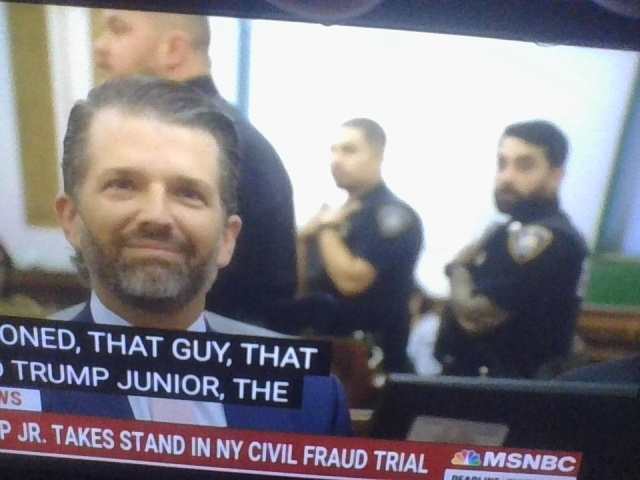fake: (67, 72, 241, 318)
